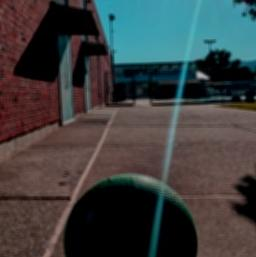algae: (62, 170, 200, 257)
